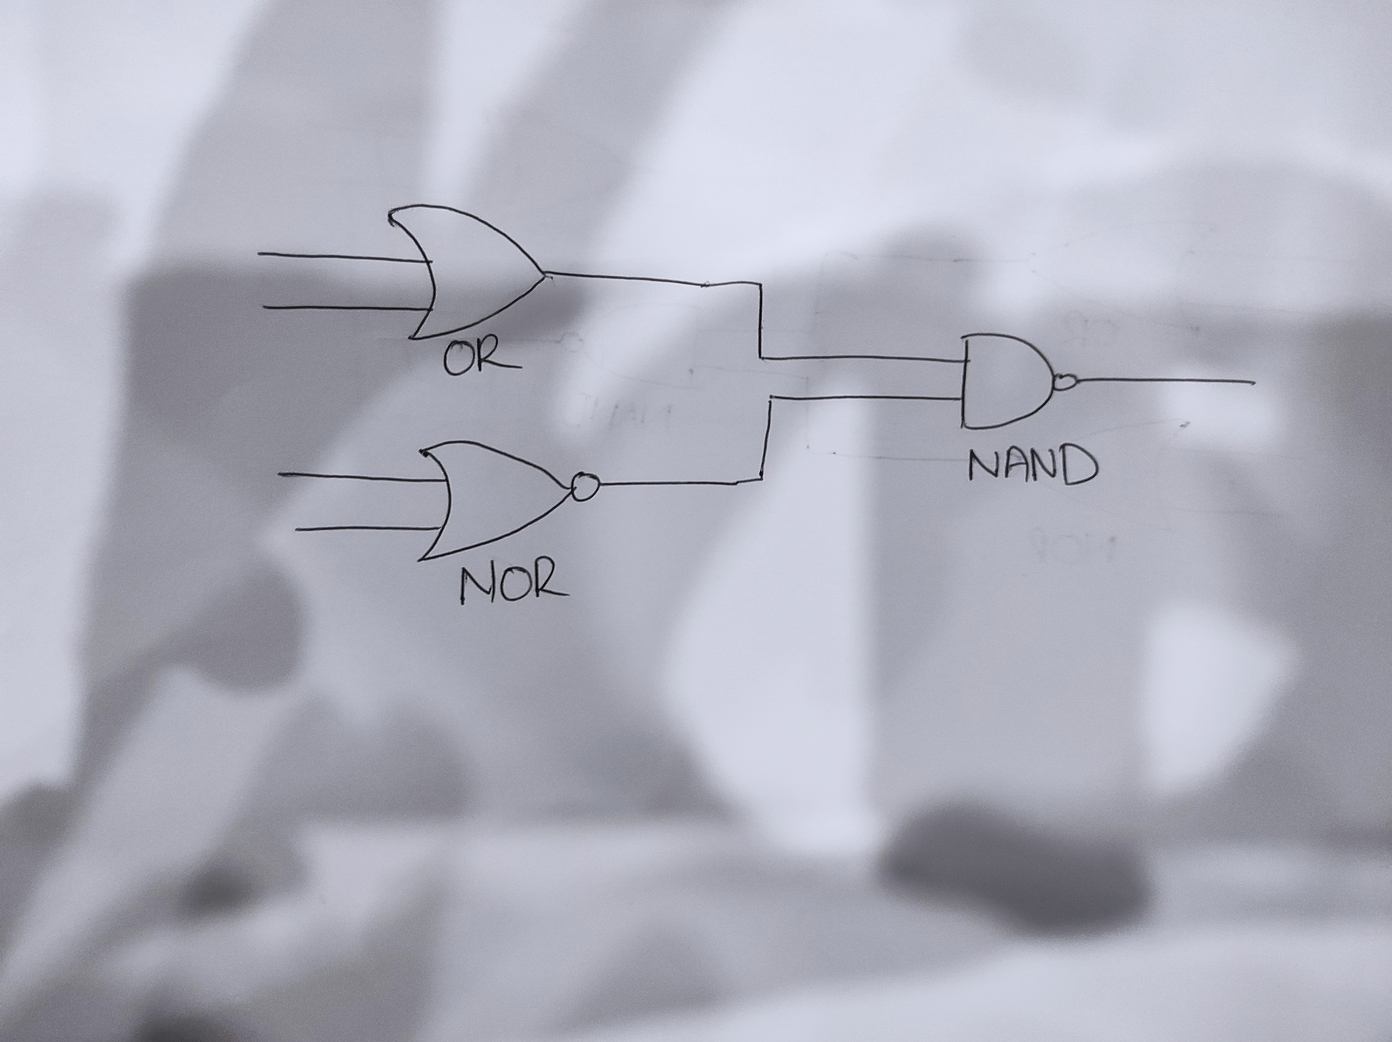junction: (749, 468, 770, 489), (761, 389, 778, 407), (751, 276, 769, 293), (752, 349, 768, 367)
nand: (956, 329, 1084, 433)
nor: (414, 437, 604, 564)
or: (385, 201, 555, 344)
terminal: (1240, 374, 1262, 393), (250, 247, 269, 263), (258, 300, 272, 315), (272, 466, 287, 482), (290, 523, 303, 536)
text: (968, 437, 1100, 493), (457, 553, 572, 607), (440, 331, 524, 378)
